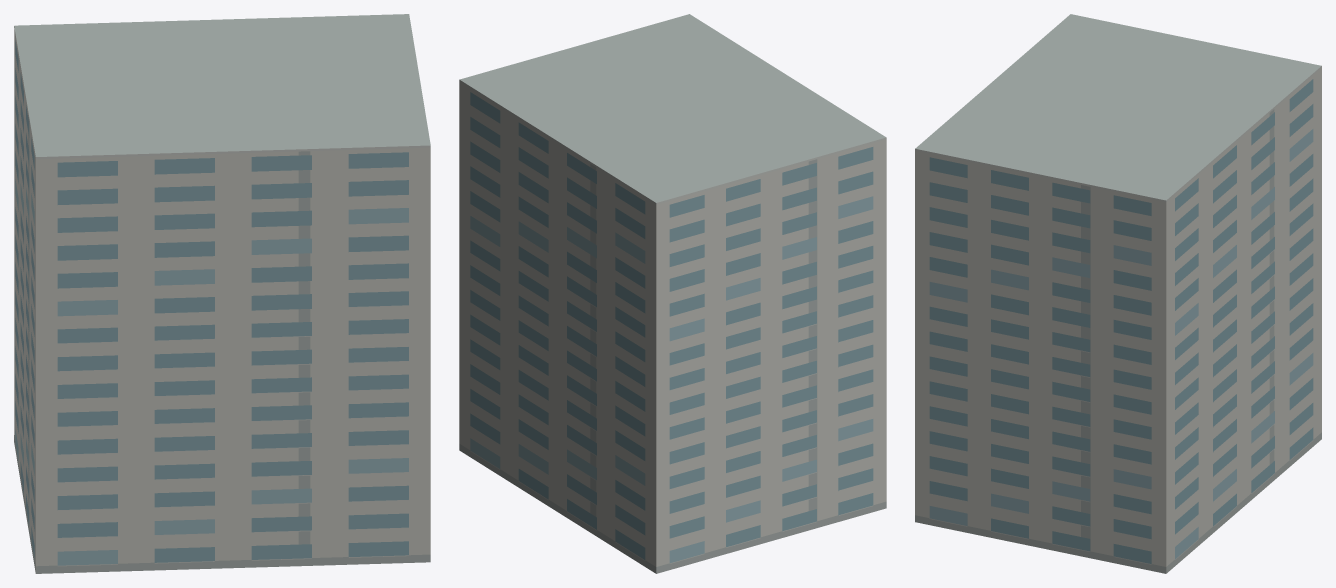
The model's file is residential-79c01d17-52b7-45d4-8b05-678d2fb58f4c.glb.
3 views of the same model, side by side, from view 1: azimuth 30°, elevation 25°; view 2: azimuth 150°, elevation 25°; view 3: azimuth 270°, elevation 25° (orthographic). The views are drawn at different scales.
Visible parts, largest first — view 1: residential-79c01d17-52b7-45d4-8b05-678d2fb58f4c.tmp; view 2: residential-79c01d17-52b7-45d4-8b05-678d2fb58f4c.tmp; view 3: residential-79c01d17-52b7-45d4-8b05-678d2fb58f4c.tmp.
Part boxes in pixels (<box>): residential-79c01d17-52b7-45d4-8b05-678d2fb58f4c.tmp: <box>14,14,430,573</box>; residential-79c01d17-52b7-45d4-8b05-678d2fb58f4c.tmp: <box>459,14,886,573</box>; residential-79c01d17-52b7-45d4-8b05-678d2fb58f4c.tmp: <box>915,14,1321,573</box>.
Bounding box in the file's own units: 50.36 × 47 × 46.41.
